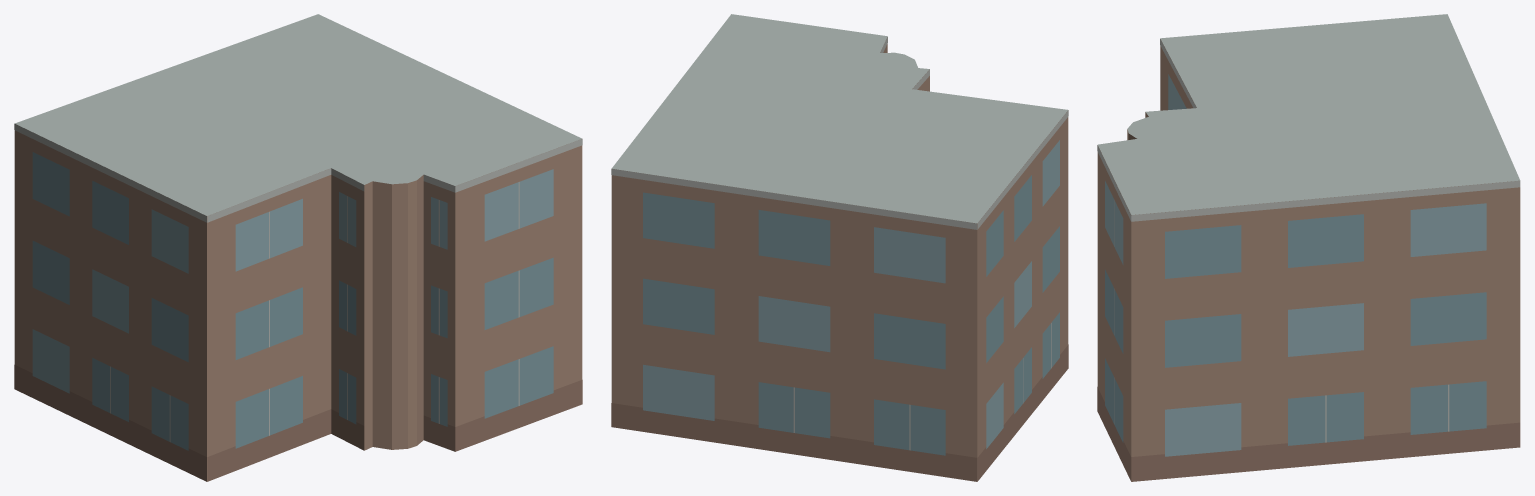
File: survey-upis-32741419.glb
The picture shows the model from 3 angles, left to right: view 1: azimuth 30°, elevation 25°; view 2: azimuth 150°, elevation 25°; view 3: azimuth 270°, elevation 25°; orthographic projection. The views are drawn at different scales.
Parts seen in each view (by area): view 1: survey-upis-32741419.tmp; view 2: survey-upis-32741419.tmp; view 3: survey-upis-32741419.tmp.
Boxes of the visible parts, left/top/right/bottom form: survey-upis-32741419.tmp: left=14, top=14, right=582, bottom=481; survey-upis-32741419.tmp: left=611, top=14, right=1068, bottom=481; survey-upis-32741419.tmp: left=1097, top=14, right=1520, bottom=481.
Bounding box in the file's own units: 15.77 × 9.75 × 14.02.
